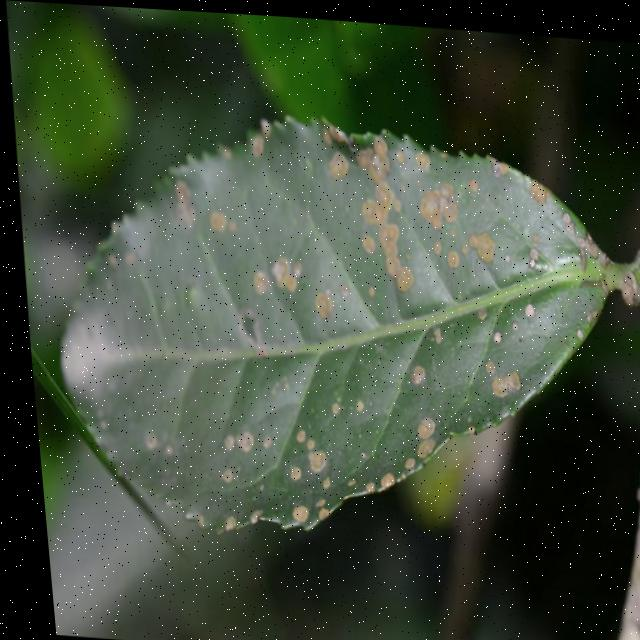Tea algae leaf spot: (84, 99, 607, 561)
